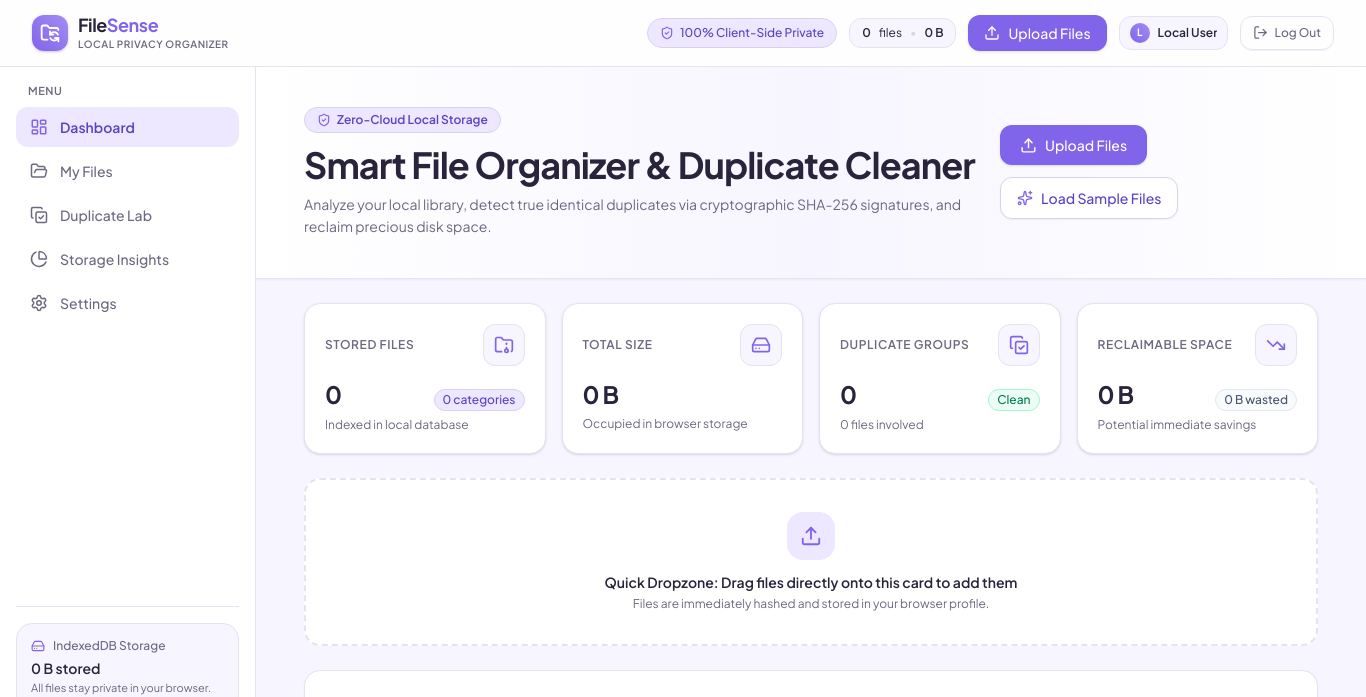
Test case: User Interactions and App Integration › transitions to landing page on logout and allows returning to dashboard
Expected: the heading "Smart File Organizer & Duplicate Cleaner" is shown, [304,144,976,184]
Note: Navigate to Settings
What coordinates should you click on to do the following:
click the button "Settings"
I would click on:
 (128, 303)
Its box is [16,283,239,323].
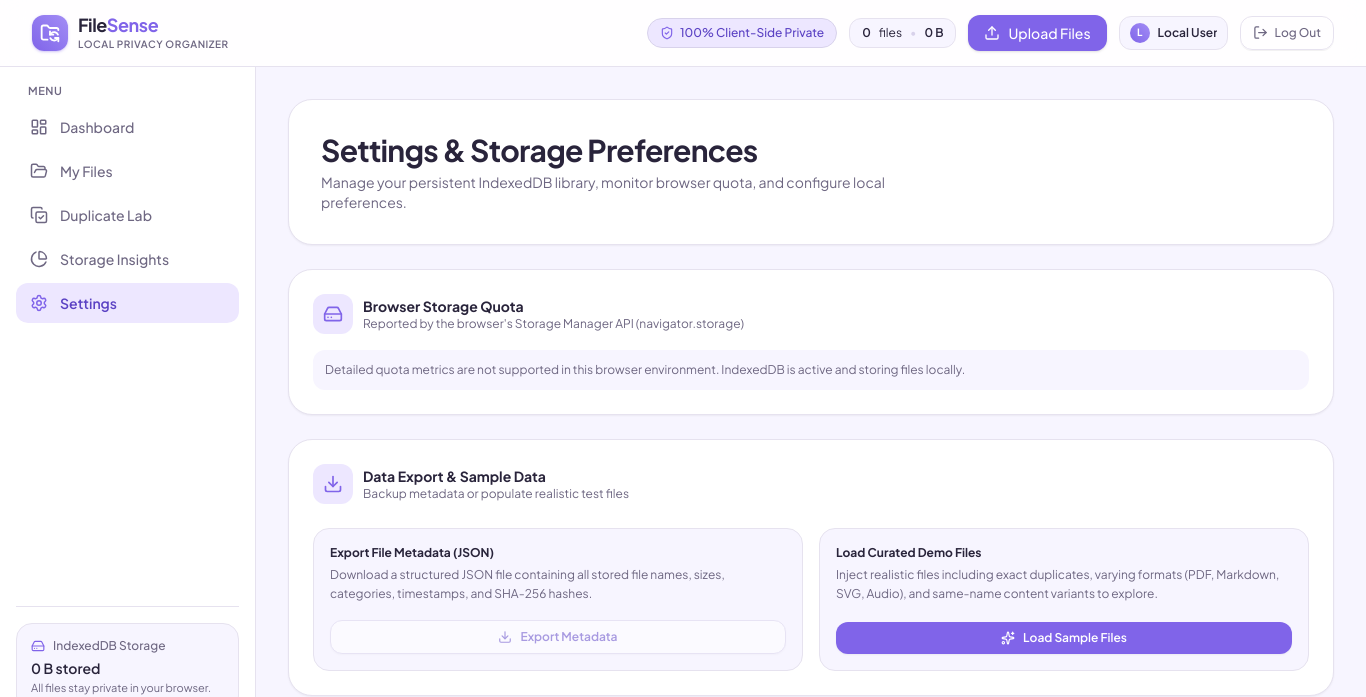
Expected: the heading "Settings & Storage Preferences" is shown, [321,130,758,168]
Note: Click Log Out button in Navbar
What coordinates should you click on to do the following:
click the button "Log Out"
I would click on:
 (1287, 33)
Its box is [1240,16,1334,50].
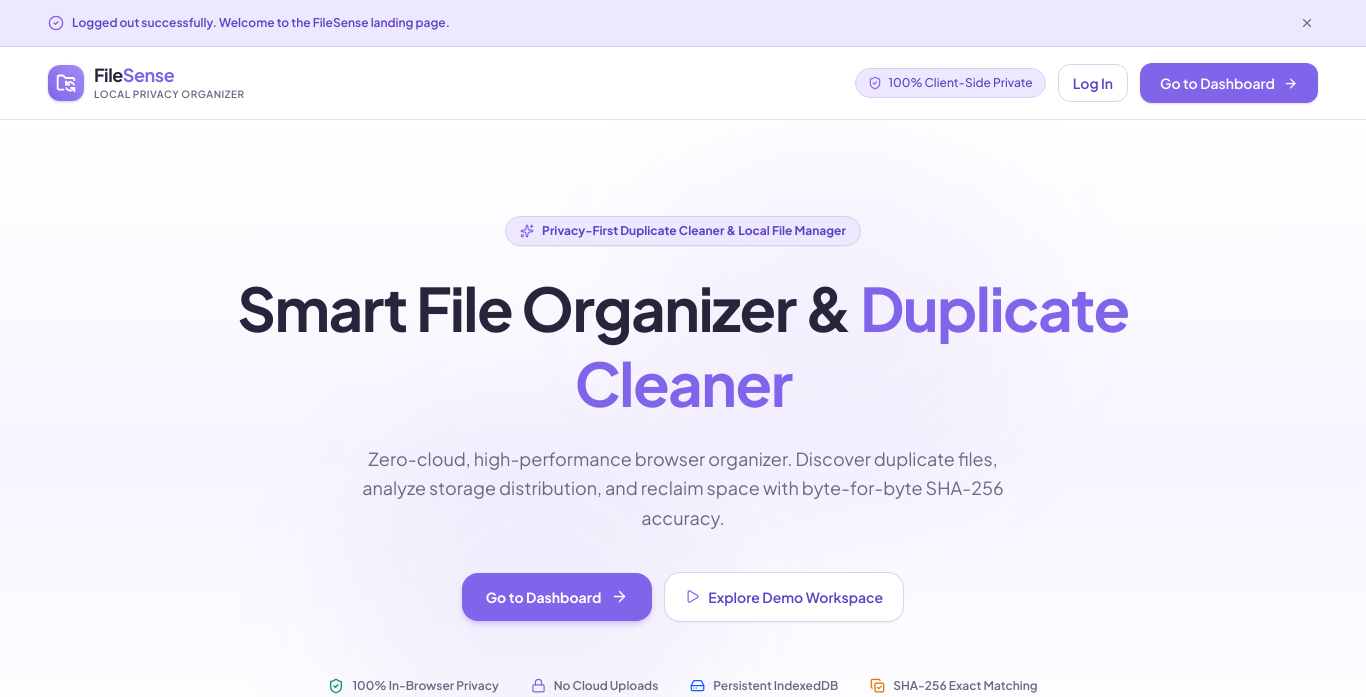
Expected: the text "Logged out successfully" is shown, [72,15,450,30]
Expected: the text "Zero-cloud, high-performance browser organizer" is shown, [362,447,1004,528]
Note: Click Go to Dashboard button from Landing Page
What coordinates should you click on to do the following:
click the button "Go to Dashboard" in the row of "Local Privacy Organizer"
I would click on:
 (1229, 83)
Its box is [1140,63,1318,103].
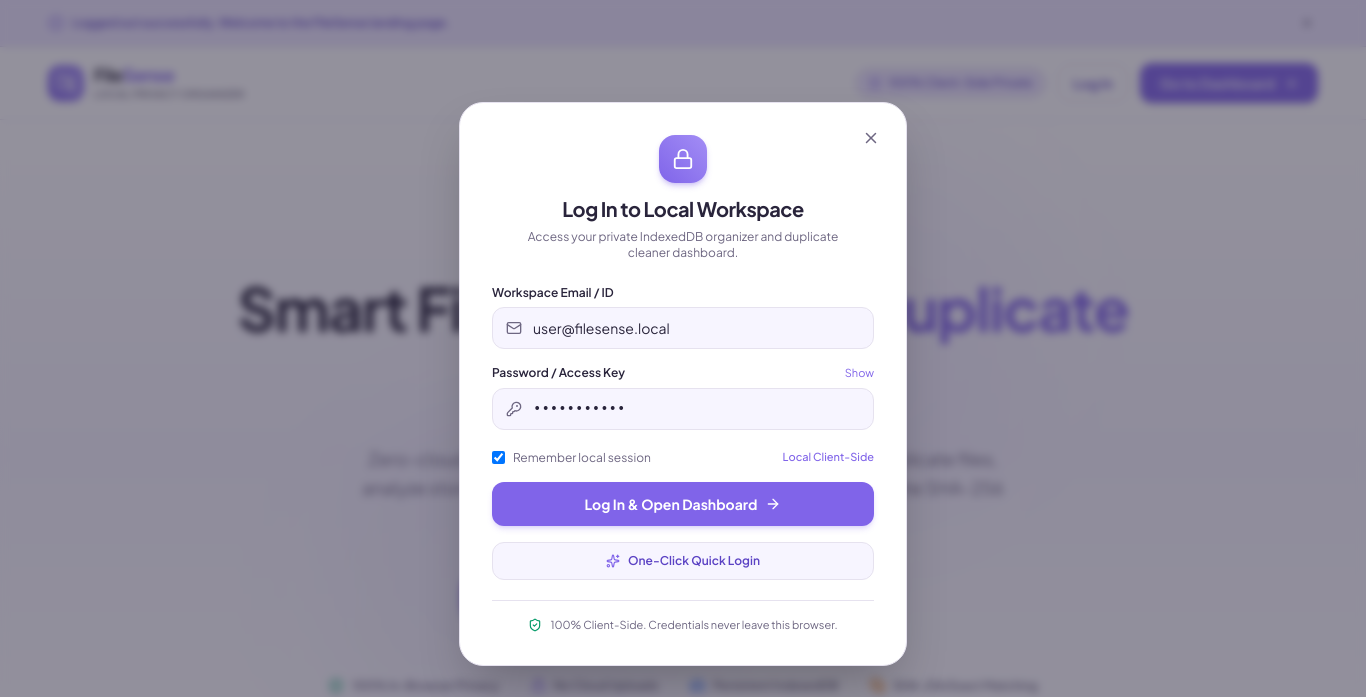
Expected: the heading "Log In to Local Workspace" is shown, [562,196,804,221]
Note: Click One-Click Quick Login
What coordinates should you click on to do the following:
click the button "One-Click Quick Login"
I would click on:
 (683, 560)
Its box is [492,542,874,580].
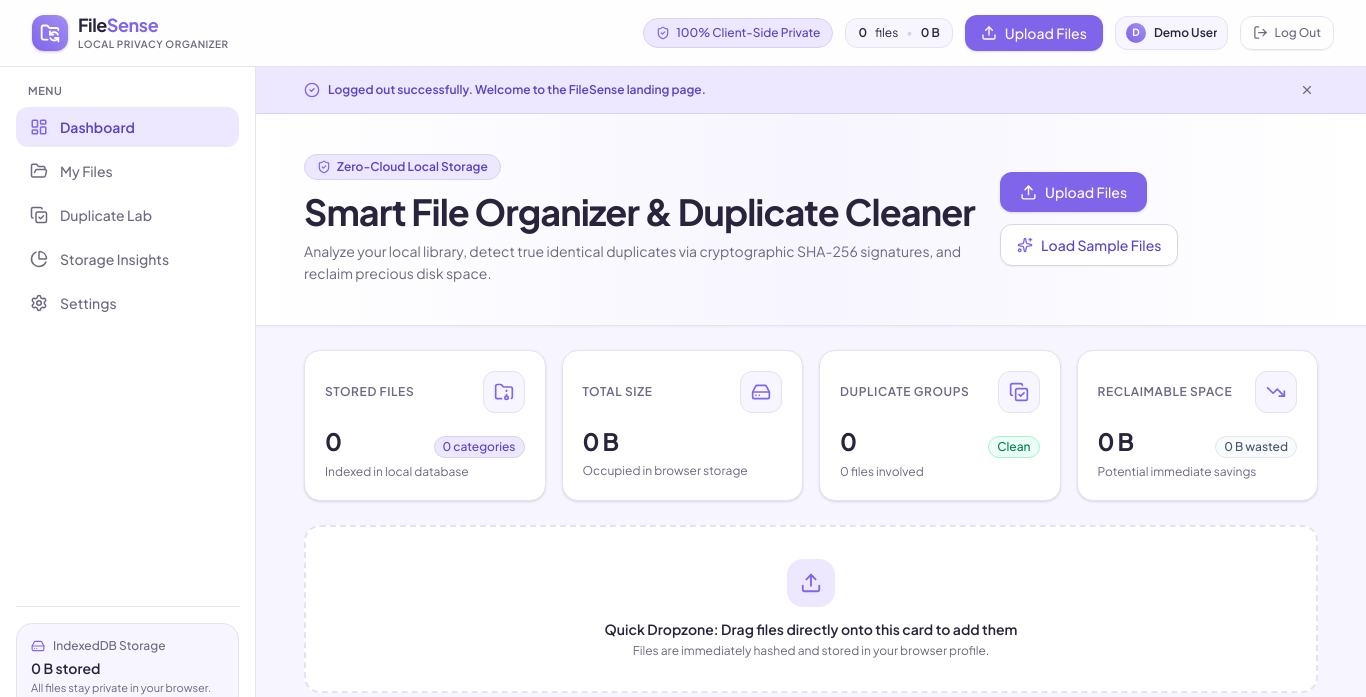
Expected: the text "Stored Files" is shown, [325,384,414,400]
